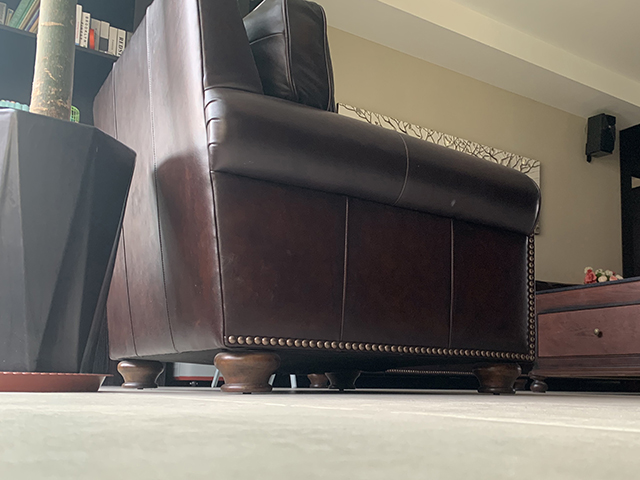sofa: (94, 1, 542, 396)
table: (528, 280, 640, 396)
